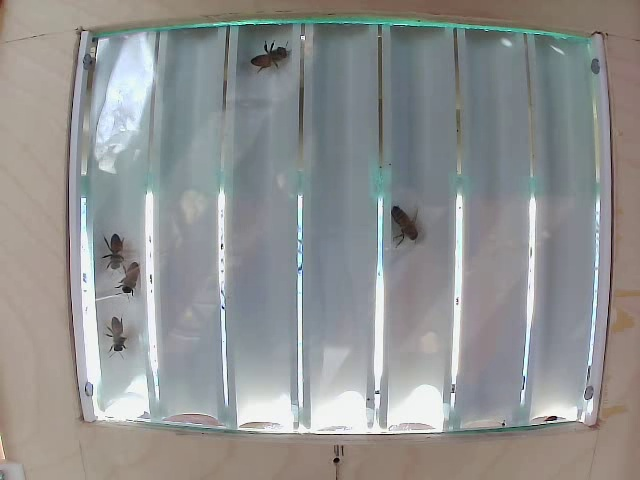bee: (385, 198, 426, 243), (247, 42, 298, 72), (103, 308, 133, 350), (119, 260, 151, 292), (103, 229, 127, 266)
